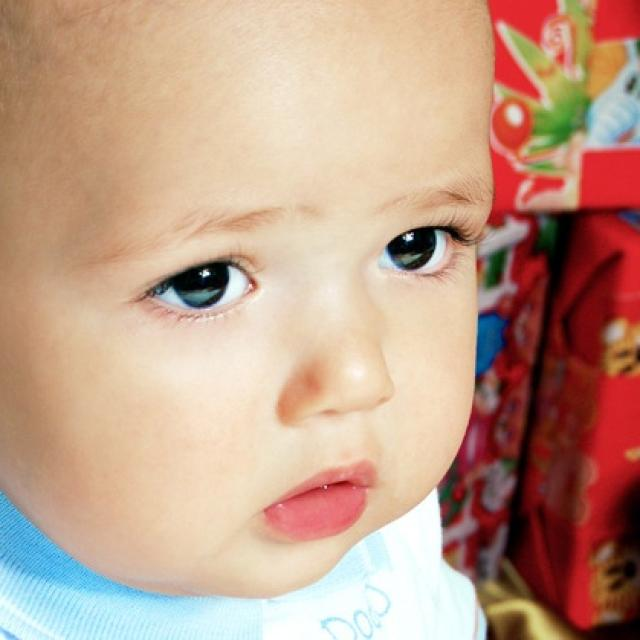Depress: (0, 2, 497, 596)
